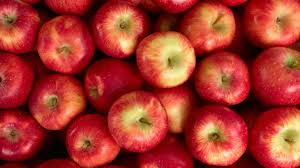apple: (110, 88, 173, 151), (139, 30, 198, 88), (191, 109, 249, 164), (92, 2, 148, 54), (183, 2, 239, 52), (40, 19, 92, 72), (198, 54, 252, 105), (36, 73, 83, 131), (252, 45, 300, 101), (243, 1, 300, 47), (254, 105, 300, 162), (68, 118, 119, 164), (86, 64, 137, 103), (151, 91, 194, 137), (1, 111, 40, 161), (1, 54, 33, 108), (1, 2, 37, 49)
